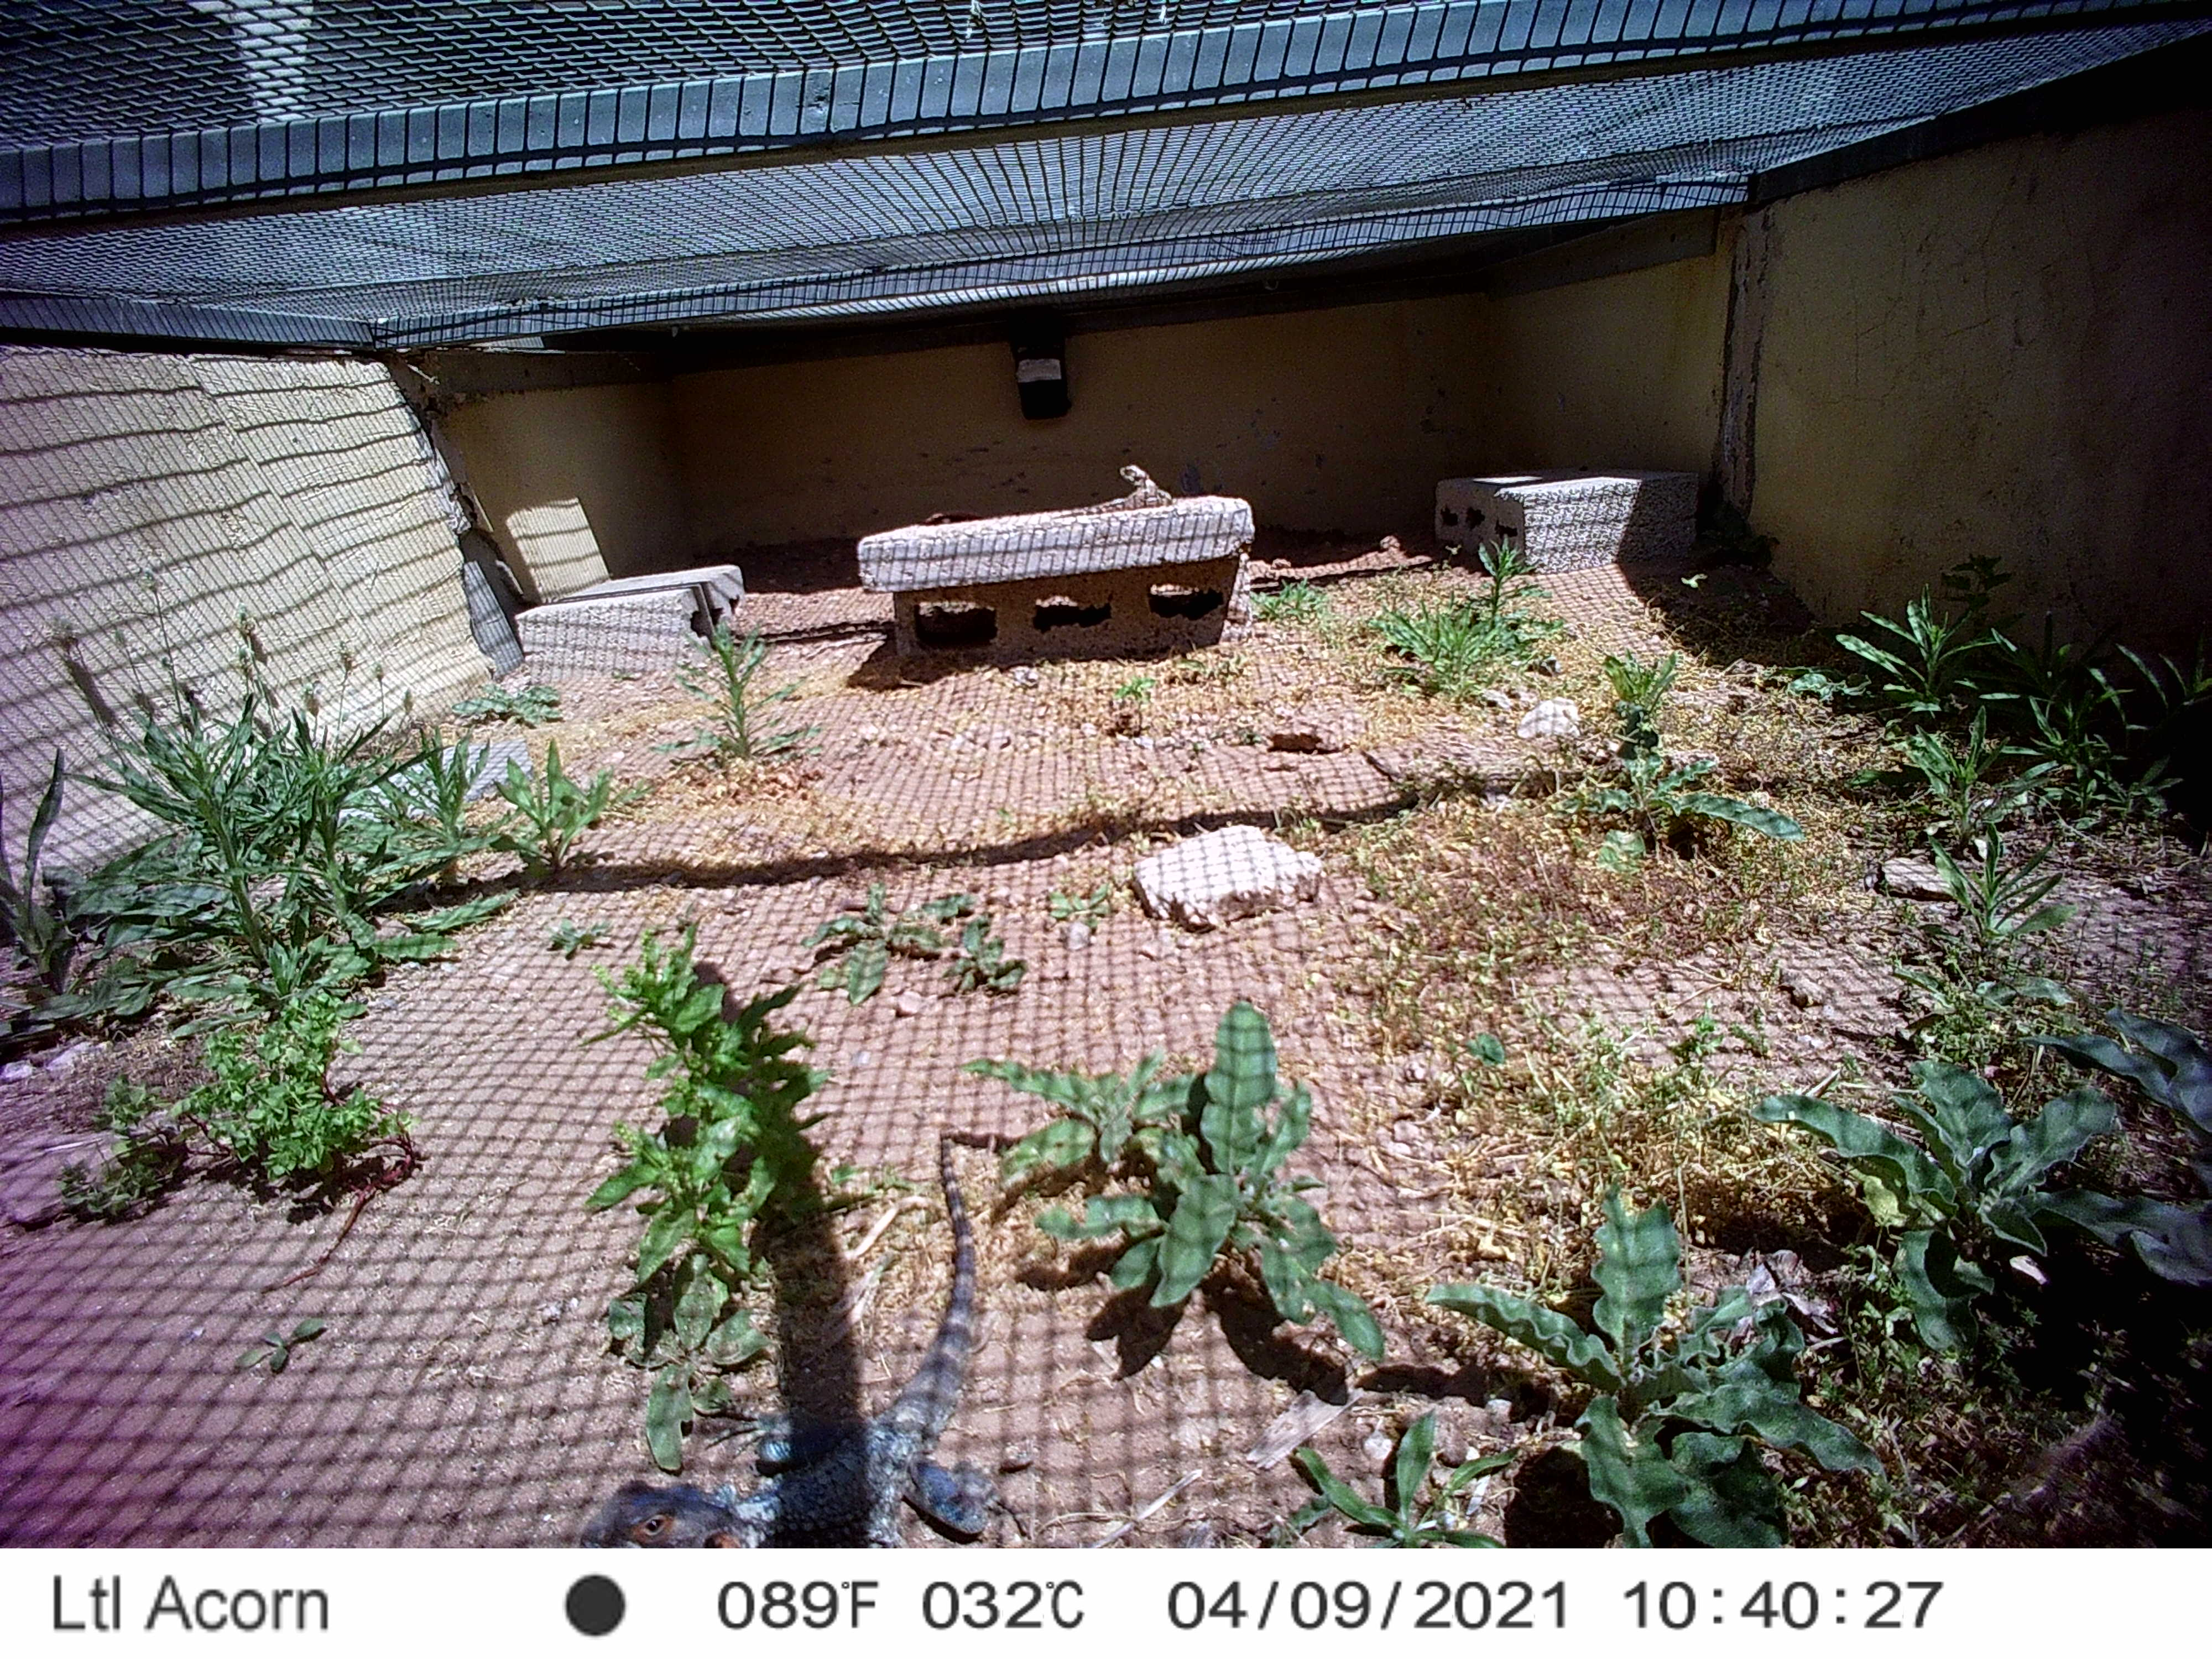lizard: (564, 1122, 1045, 1542), (1054, 464, 1170, 525)
